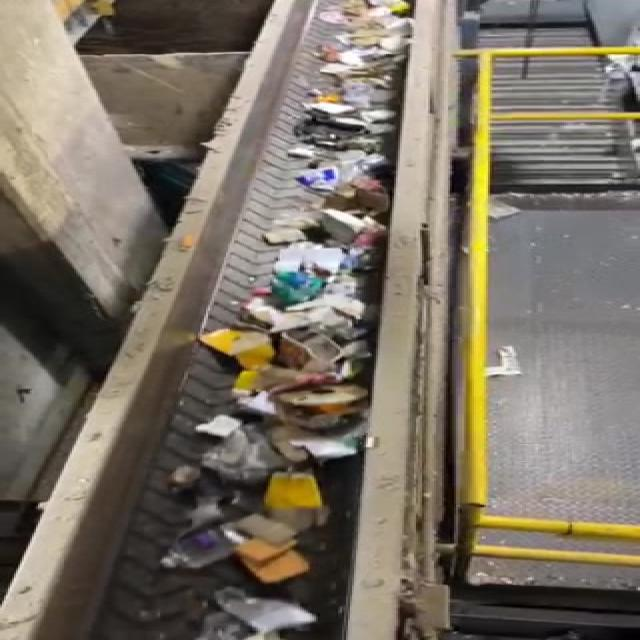paper: (260, 467, 344, 521)
pet: (156, 518, 245, 575)
